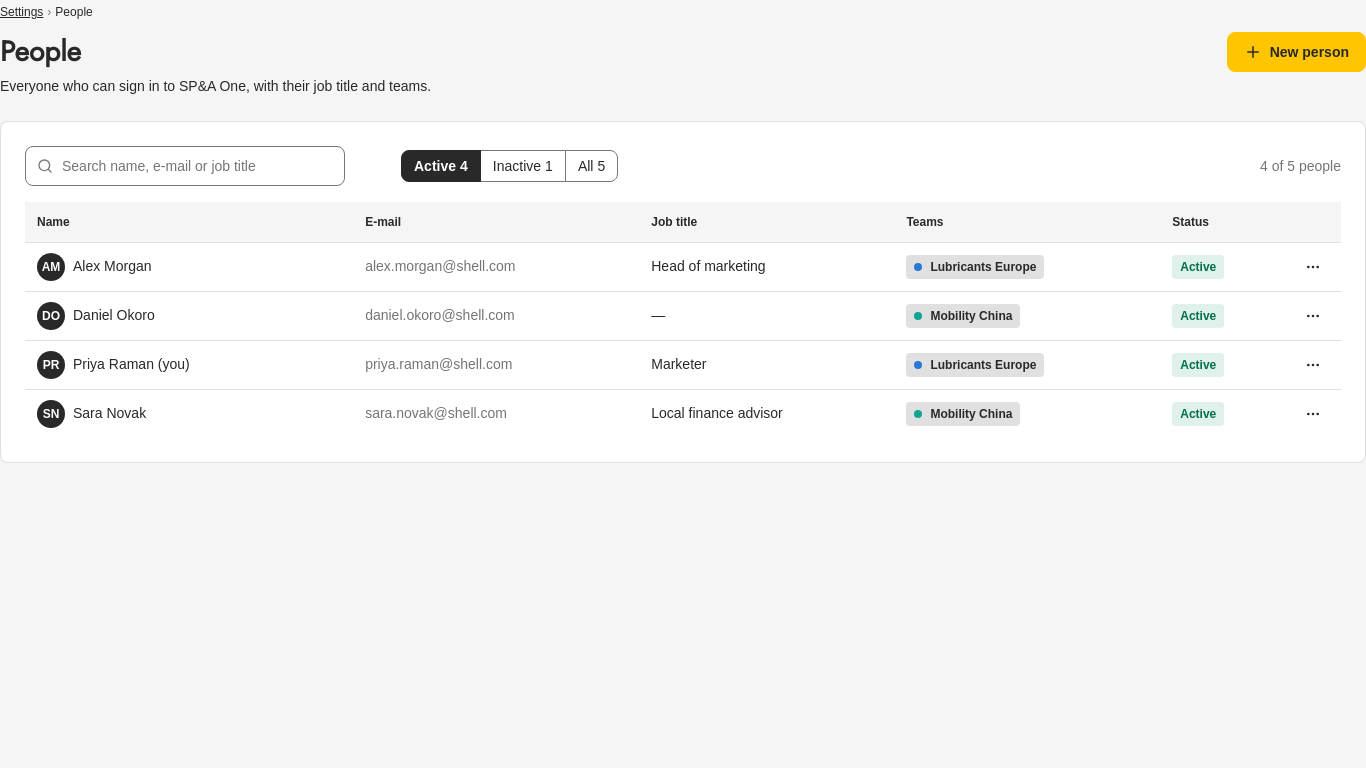
Test: PeoplePage (feature 003, US1): New person and Edit person › shows the impact check problems at the fields
This screenshot has width=1366, height=768.
Click the button named "Actions for Alex Morgan": [1313, 266] box [1297,250,1329,282]
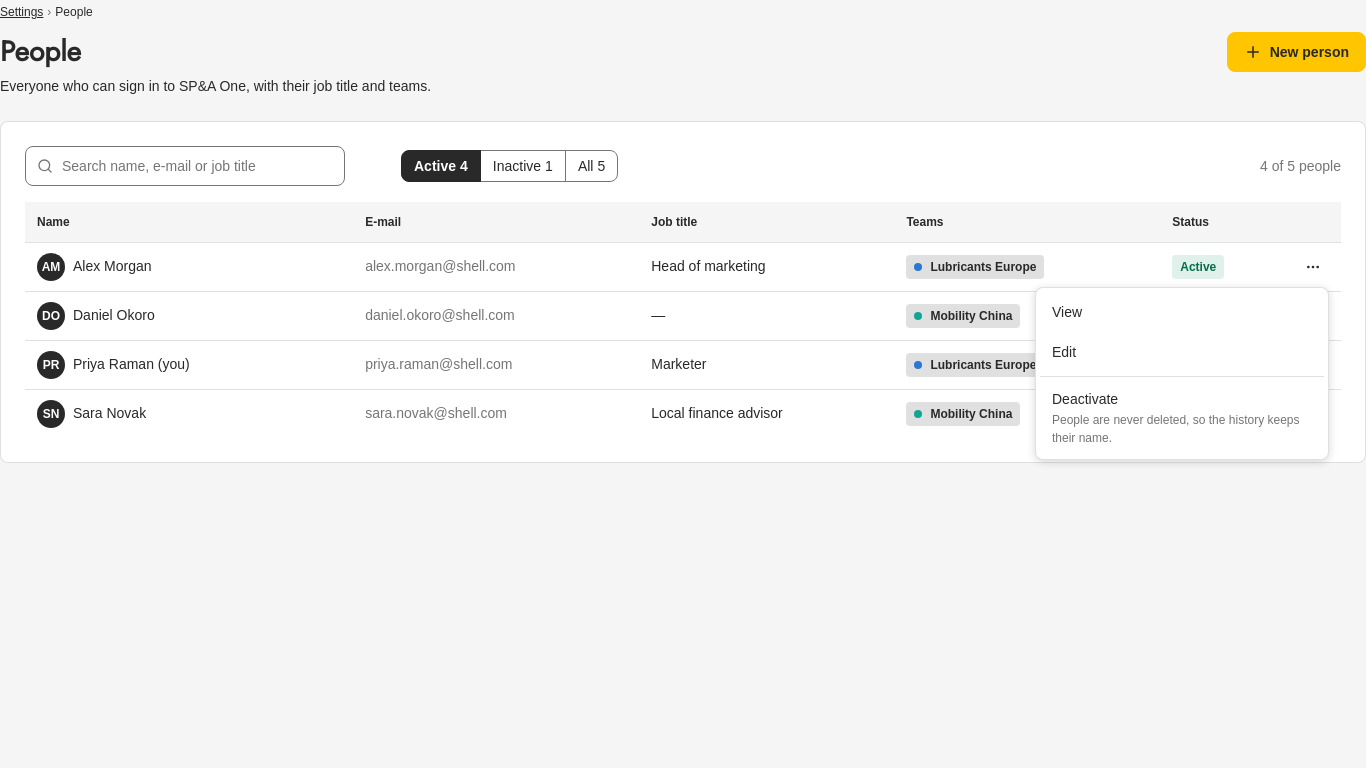
Click the menu item "Edit": [1064, 352] box [1052,344,1076,360]
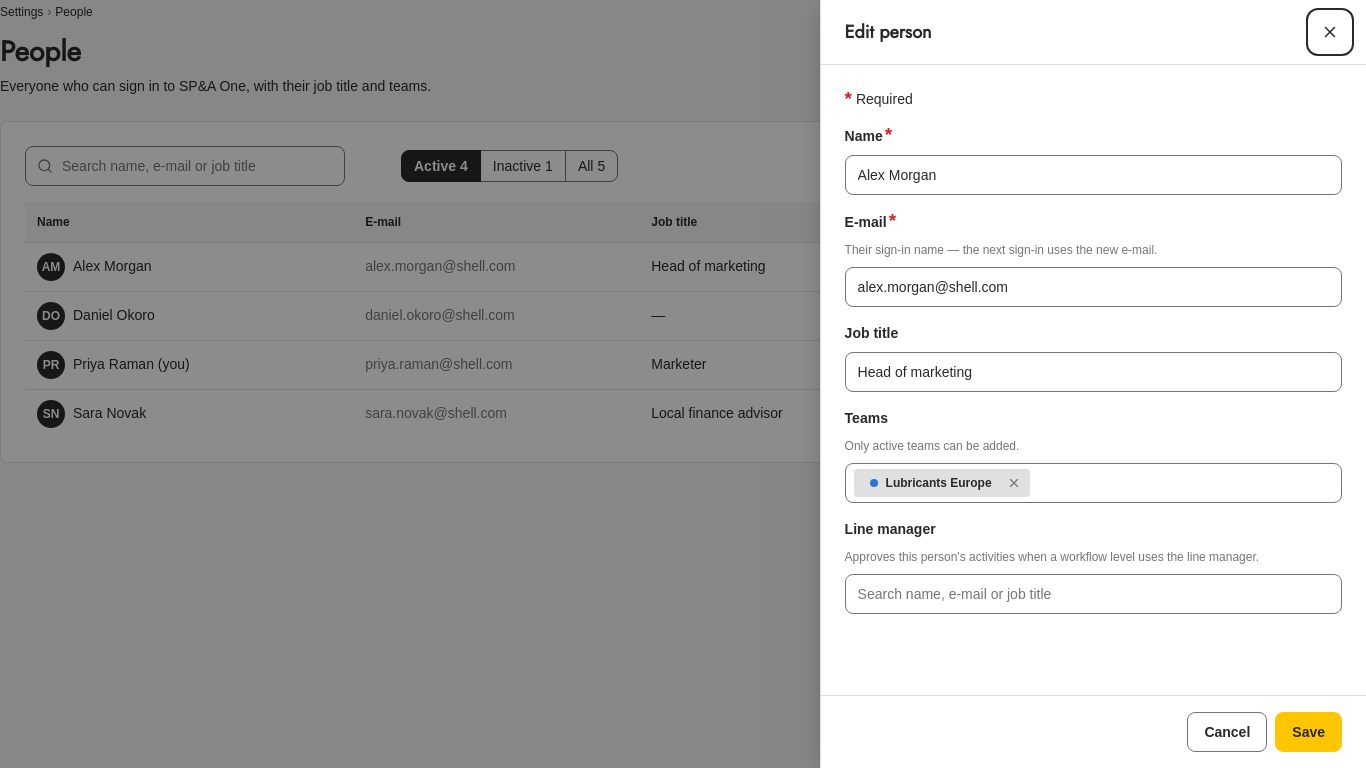
Clear the field labelled "Name": [1093, 175] box [845,155,1342,195]
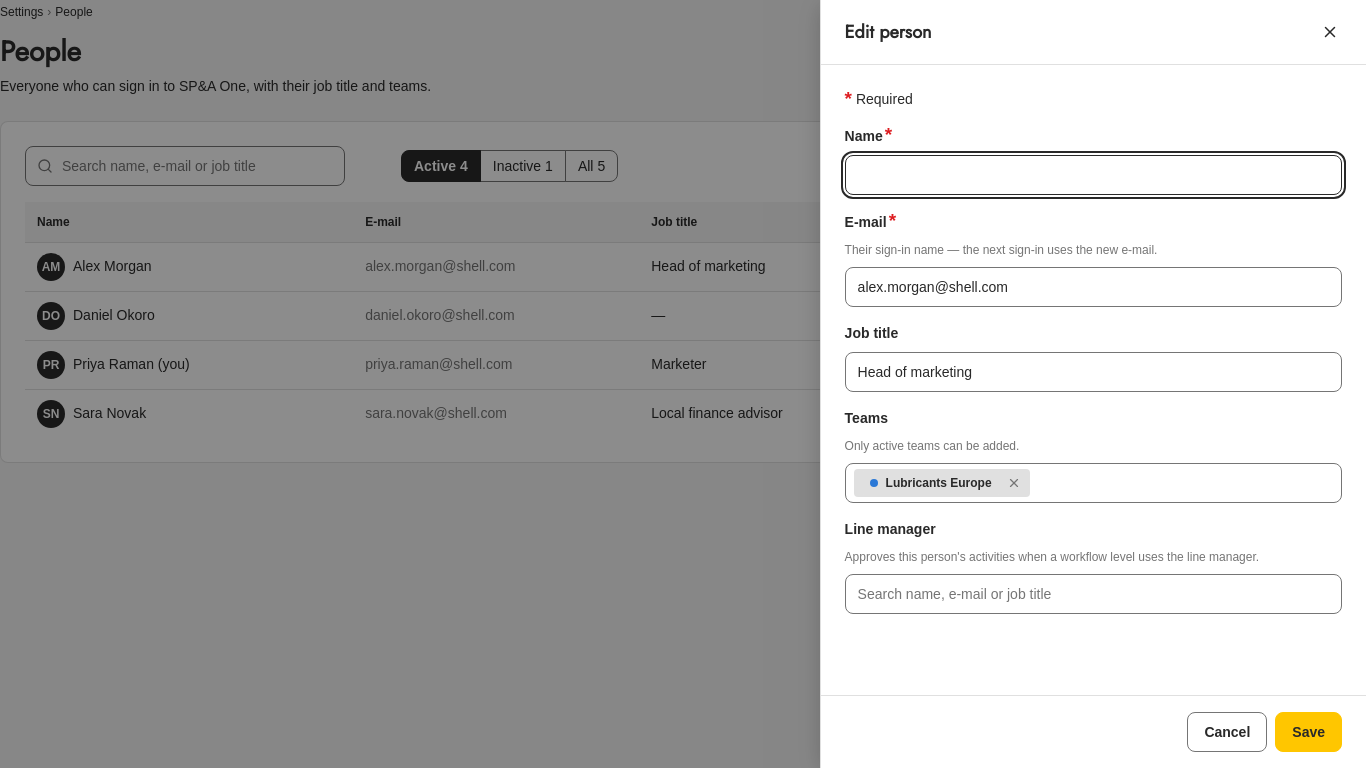
Click the button named "Remove Lubricants Europe": [1014, 483] box [1002,471,1026,495]
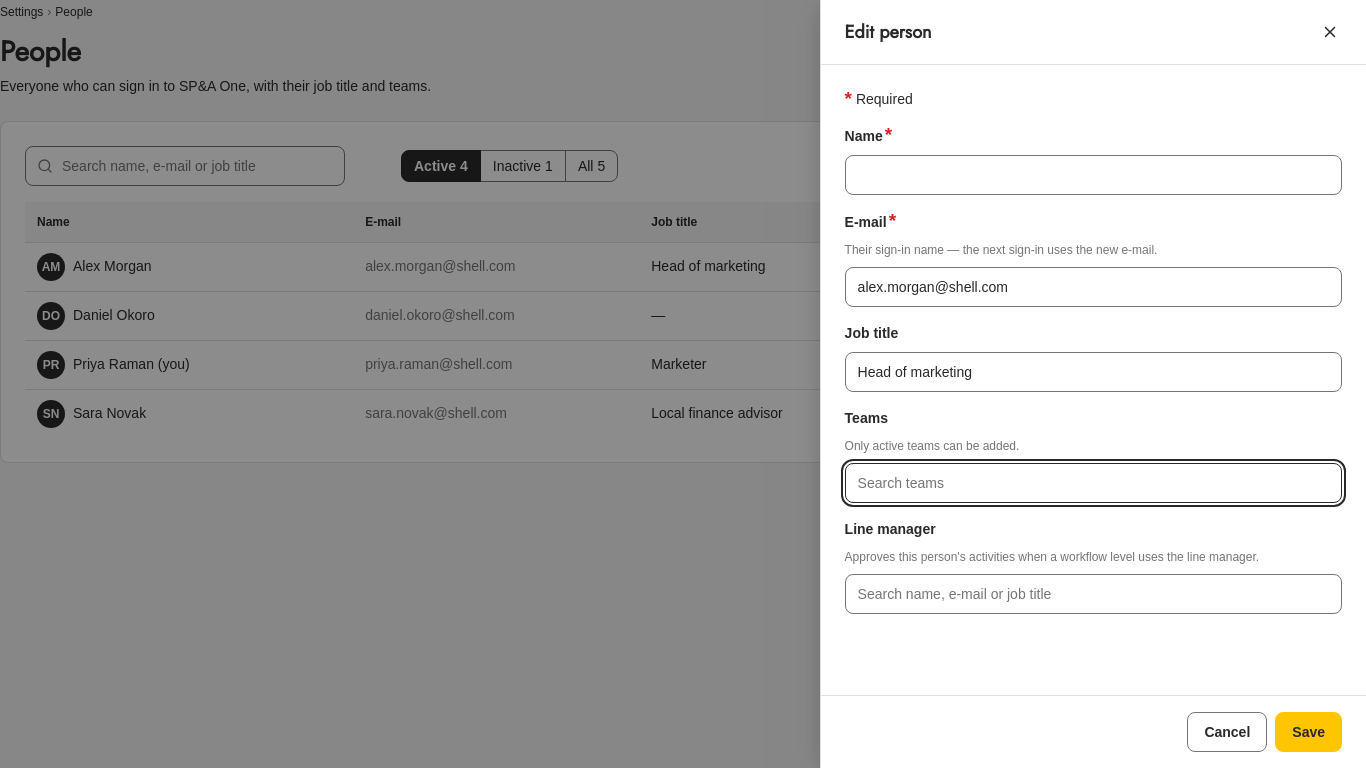
Click the button "Save": [1309, 732] box [1275,712,1342,752]
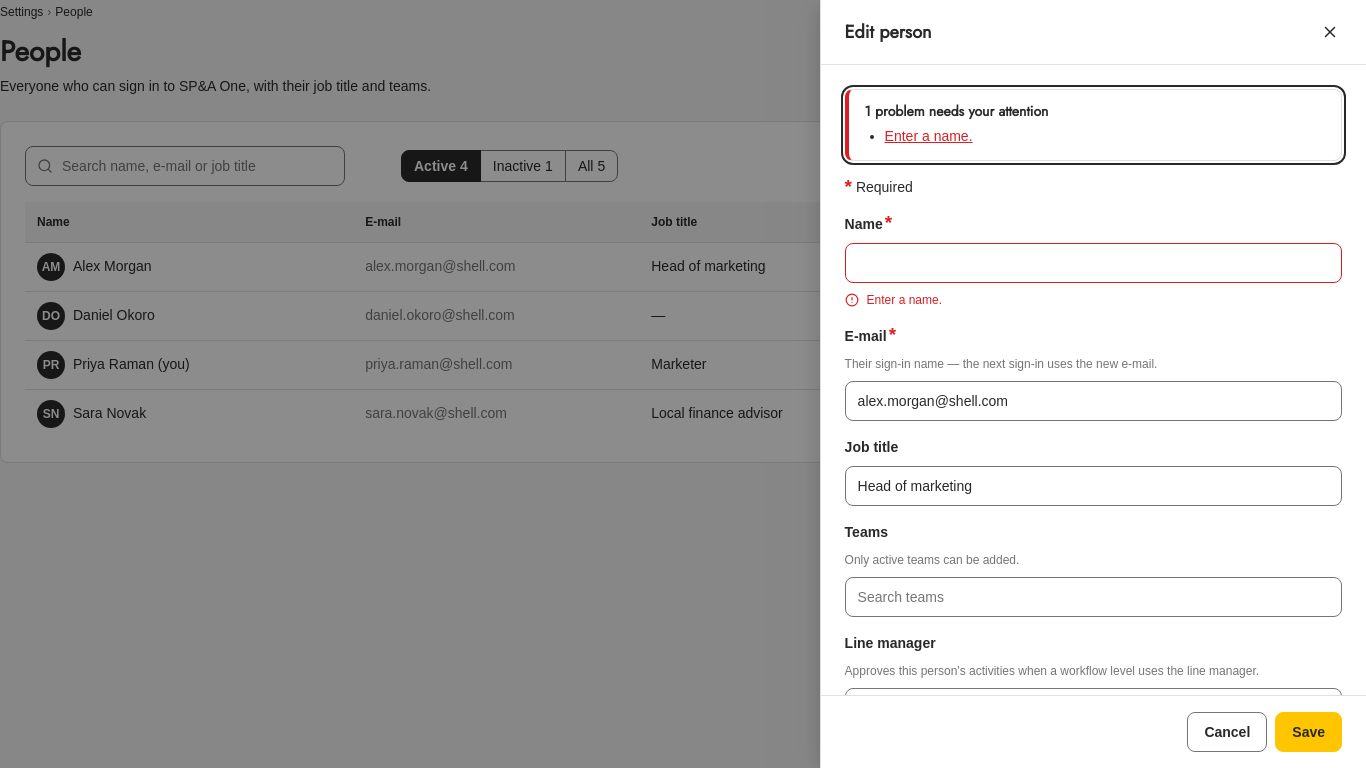
Check: the number of links "Enter a name." is 2, box [885,124,972,148]; [845,293,942,307]
